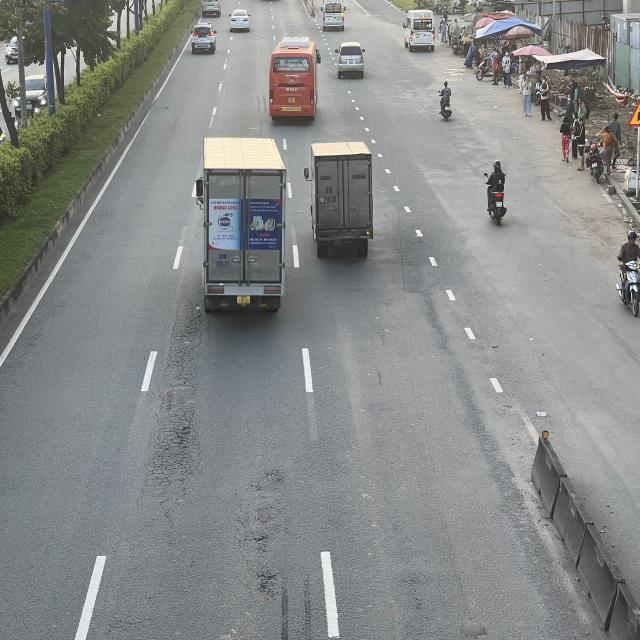car: (336, 42, 367, 80), (191, 21, 217, 54), (230, 9, 253, 32)
coach: (269, 38, 321, 123)
truck: (194, 134, 286, 312), (306, 143, 375, 260)
van: (404, 10, 436, 52), (322, 0, 346, 30)
